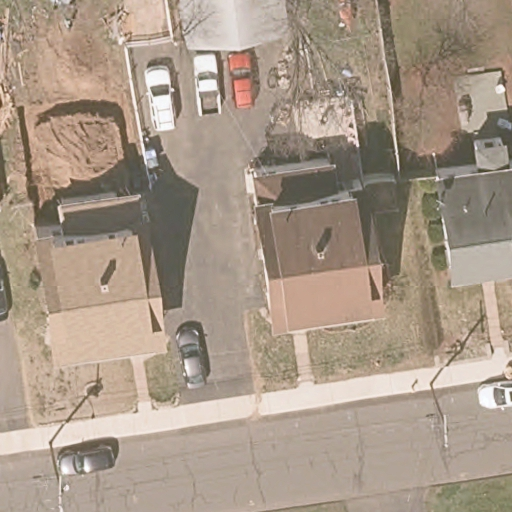DT: (428, 385, 450, 448), (48, 440, 71, 499)
